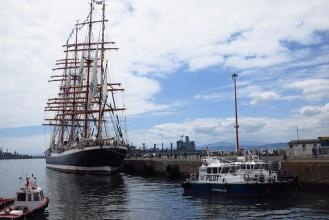fanchuan: (44, 1, 139, 172)
otherboat: (177, 153, 299, 196), (1, 171, 45, 220)
